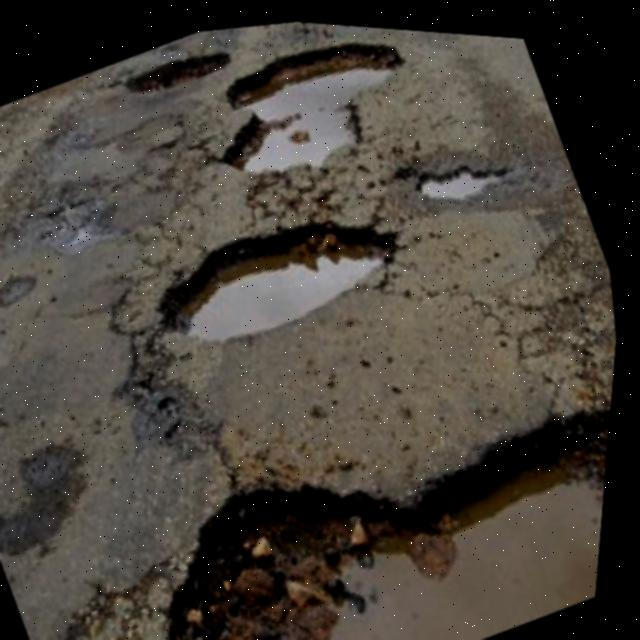Pothole: (48, 294, 621, 640), (156, 10, 476, 238), (133, 163, 426, 391), (387, 115, 541, 246), (88, 13, 261, 127)
